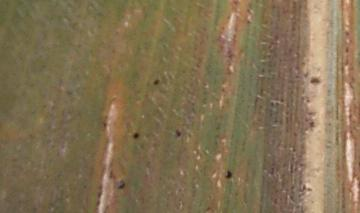tarspot: (96, 181, 104, 198), (115, 178, 126, 190), (309, 76, 320, 86), (304, 110, 316, 119), (223, 169, 232, 180), (173, 128, 182, 138), (94, 198, 101, 209), (152, 78, 160, 87), (342, 30, 351, 38), (301, 70, 309, 79), (132, 131, 139, 140), (308, 120, 315, 129), (344, 45, 350, 54), (225, 14, 232, 21), (305, 187, 313, 193), (278, 96, 284, 104), (301, 183, 306, 192), (231, 1, 240, 6), (101, 121, 107, 128), (291, 146, 297, 153), (305, 97, 311, 104), (268, 100, 274, 107), (294, 74, 300, 80), (273, 101, 279, 107), (245, 19, 251, 24)
